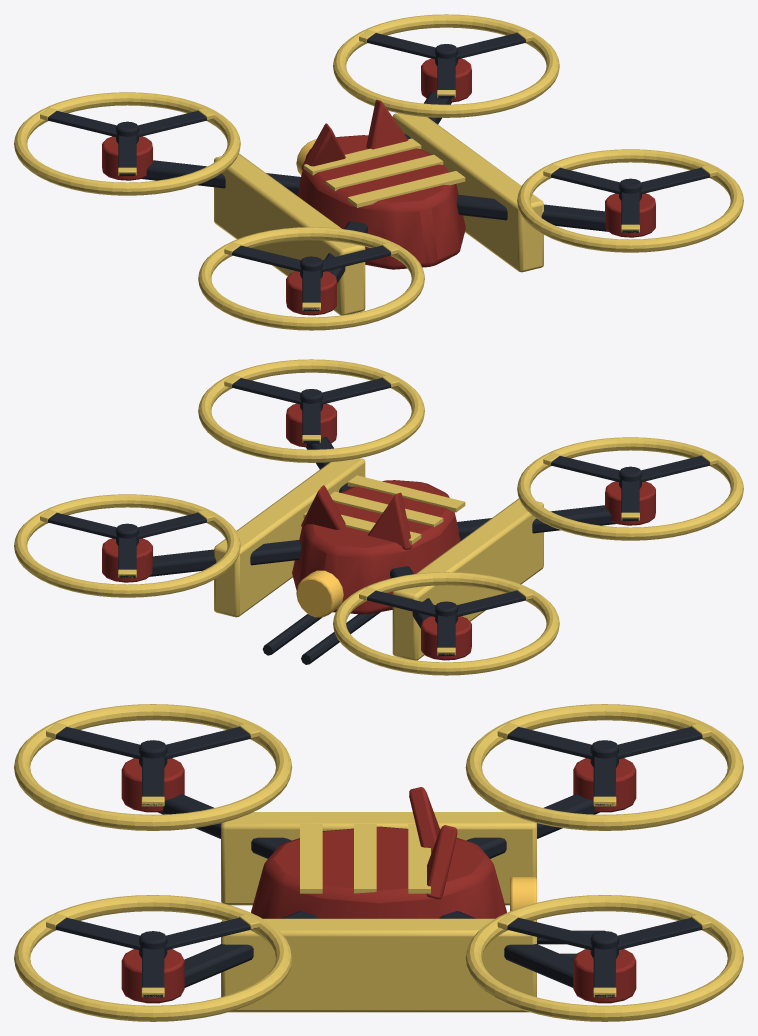
Rendered from baeren_brummkopter.glb.
3 renders of one model, top to bottom at view 1: azimuth 30°, elevation 25°; view 2: azimuth 150°, elevation 25°; view 3: azimuth 270°, elevation 25°, orthographic. The views are drawn at different scales.
Visible parts, largest first — view 1: core, armor_-1, armor_1, guard_3, guard_1, guard_2, guard_0, rotor_r0, rotor_r1, rotor_r2, rotor_r3, arm_2 (+10 smaller); view 2: core, armor_-1, armor_1, guard_2, guard_1, guard_3, guard_0, rotor_r2, rotor_r3, rotor_r0, rotor_r1, arm_0 (+12 smaller); view 3: armor_1, core, armor_-1, guard_0, guard_2, guard_1, guard_3, rotor_r1, rotor_r3, rotor_r0, rotor_r2, motor_0 (+13 smaller).
Boxes of the visible parts, x1,y1,x2,y2 form: core: [297, 135, 465, 269]; armor_-1: [214, 153, 365, 315]; armor_1: [392, 113, 543, 272]; guard_3: [198, 227, 424, 330]; guard_1: [14, 92, 240, 195]; guard_2: [517, 149, 743, 252]; guard_0: [333, 14, 559, 117]; rotor_r0: [359, 30, 533, 98]; rotor_r1: [40, 107, 214, 175]; rotor_r2: [543, 164, 717, 232]; rotor_r3: [224, 242, 398, 310]; arm_2: [456, 195, 608, 231]; core: [292, 480, 460, 614]; armor_-1: [392, 498, 543, 660]; armor_1: [214, 458, 365, 617]; guard_2: [198, 359, 424, 462]; guard_1: [333, 572, 559, 675]; guard_3: [517, 437, 743, 540]; guard_0: [14, 494, 240, 597]; rotor_r2: [224, 375, 398, 443]; rotor_r3: [543, 452, 717, 520]; rotor_r0: [40, 509, 214, 577]; rotor_r1: [359, 587, 533, 655]; arm_0: [149, 540, 301, 576]; armor_1: [221, 918, 536, 1012]; core: [251, 826, 506, 918]; armor_-1: [221, 812, 536, 905]; guard_0: [465, 895, 743, 1021]; guard_2: [14, 895, 292, 1021]; guard_1: [465, 704, 743, 830]; guard_3: [14, 704, 292, 830]; rotor_r1: [497, 723, 711, 806]; rotor_r3: [46, 723, 260, 806]; rotor_r0: [497, 914, 711, 997]; rotor_r2: [46, 914, 260, 997]; motor_0: [573, 949, 636, 1003].
Bounding box in the file's own units: 2.18 × 0.4871 × 2.18.
